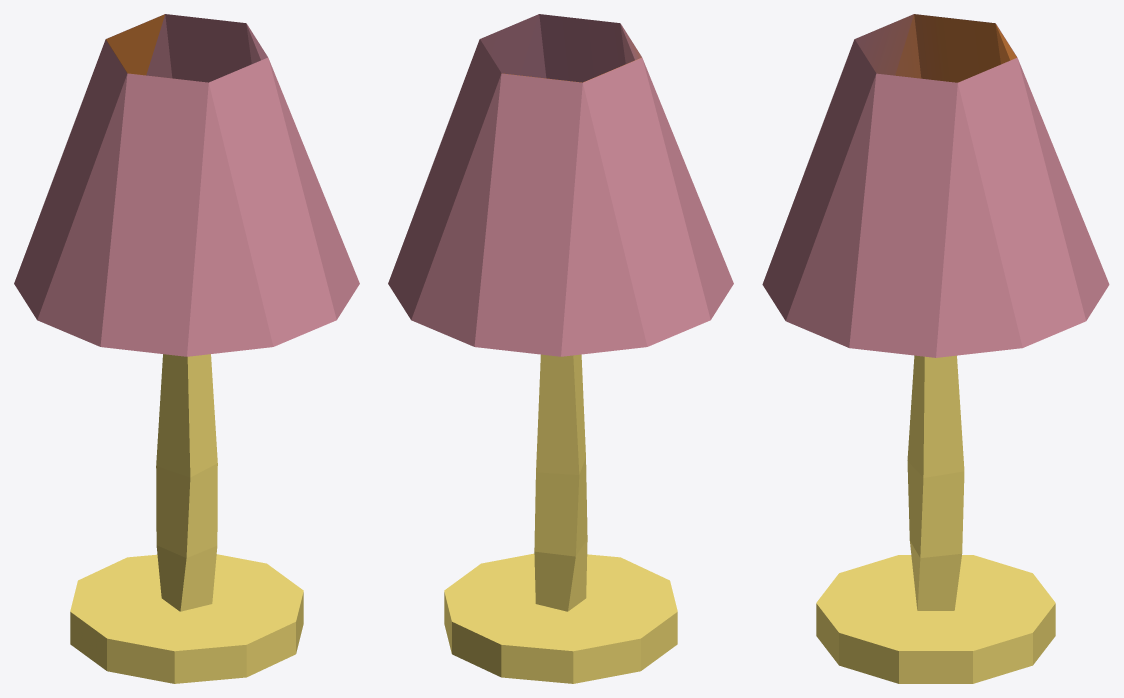
File: Bedroom3_lamp1.fbx
The picture shows the model from 3 angles, left to right: view 1: azimuth 30°, elevation 25°; view 2: azimuth 150°, elevation 25°; view 3: azimuth 270°, elevation 25°; orthographic projection.
Visible parts, largest first — view 1: Bedroom3_lamp1; view 2: Bedroom3_lamp1; view 3: Bedroom3_lamp1.
Boxes of the visible parts, bbox=[...] form: Bedroom3_lamp1: bbox=[14, 14, 359, 683]; Bedroom3_lamp1: bbox=[388, 14, 733, 683]; Bedroom3_lamp1: bbox=[762, 14, 1109, 683].
Size of the model in its own units: 42.97 by 80.23 by 42.97.
